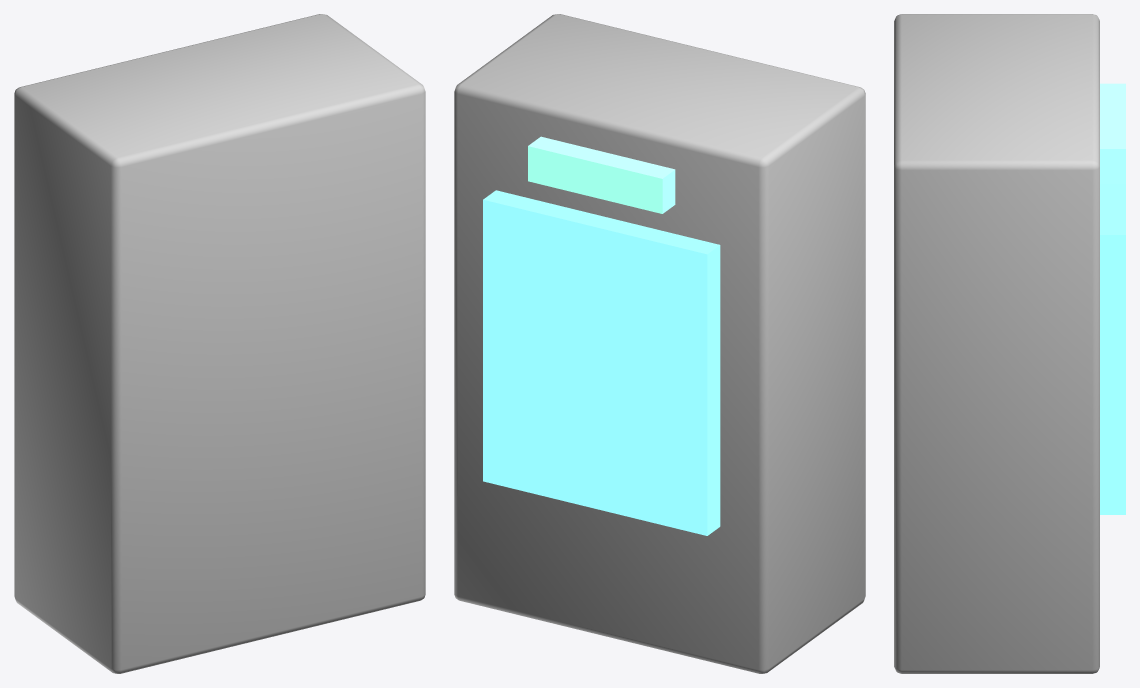
Rendered from hm_bank_badge_scanner_v2.glb.
The picture shows the model from 3 angles, left to right: view 1: azimuth 30°, elevation 25°; view 2: azimuth 150°, elevation 25°; view 3: azimuth 270°, elevation 25°; orthographic projection.
Visible parts, largest first — view 1: BS_Body; view 2: BS_Body, BS_Face, BS_LED; view 3: BS_Body, BS_Face, BS_LED.
Boxes of the visible parts, bbox=[...] form: BS_Body: bbox=[14, 14, 425, 673]; BS_Body: bbox=[454, 14, 865, 673]; BS_Face: bbox=[483, 190, 720, 535]; BS_LED: bbox=[528, 136, 675, 213]; BS_Body: bbox=[894, 14, 1099, 673]; BS_Face: bbox=[1100, 184, 1125, 514]; BS_LED: bbox=[1100, 83, 1125, 183].
Bounding box in the file's own units: 0.14 × 0.22 × 0.09.
